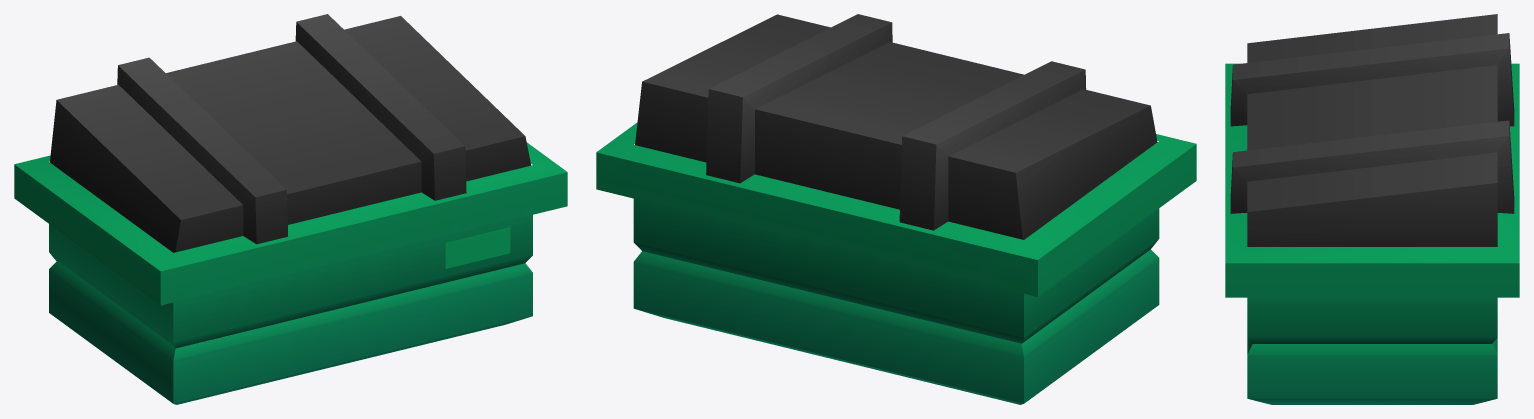
Rendered from kk-dumpster.glb.
The picture shows the model from 3 angles, left to right: view 1: azimuth 30°, elevation 25°; view 2: azimuth 150°, elevation 25°; view 3: azimuth 270°, elevation 25°; orthographic projection. The views are drawn at different scales.
Parts seen in each view (by area): view 1: dumpster; view 2: dumpster; view 3: dumpster.
Boxes of the visible parts, bbox=[...] form: dumpster: bbox=[14, 14, 567, 404]; dumpster: bbox=[596, 14, 1196, 404]; dumpster: bbox=[1225, 14, 1519, 404].
Bounding box in the file's own units: 0.5659 × 0.3173 × 0.3528.
Materials: 1 (1 with a texture image).
